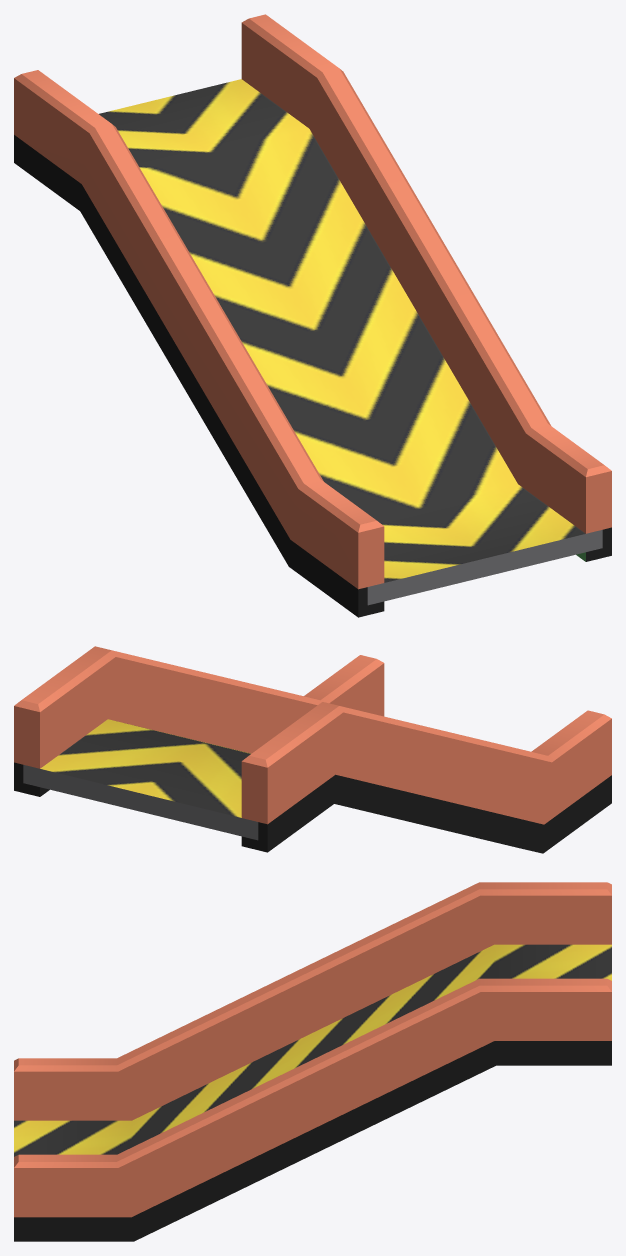
Rendered from thang may down.fbx.
3 renders of one model, top to bottom at view 1: azimuth 30°, elevation 25°; view 2: azimuth 150°, elevation 25°; view 3: azimuth 270°, elevation 25°, orthographic. The views are drawn at different scales.
Visible parts, largest first — view 1: thang_may_down; view 2: thang_may_down; view 3: thang_may_down.
Part boxes in pixels (bbox=[...]): thang_may_down: bbox=[14, 14, 611, 617]; thang_may_down: bbox=[14, 646, 611, 853]; thang_may_down: bbox=[14, 882, 611, 1241].
Bounding box in the file's own units: 21.65 × 23.79 × 50.77.
Materials: 1 (1 with a texture image).
